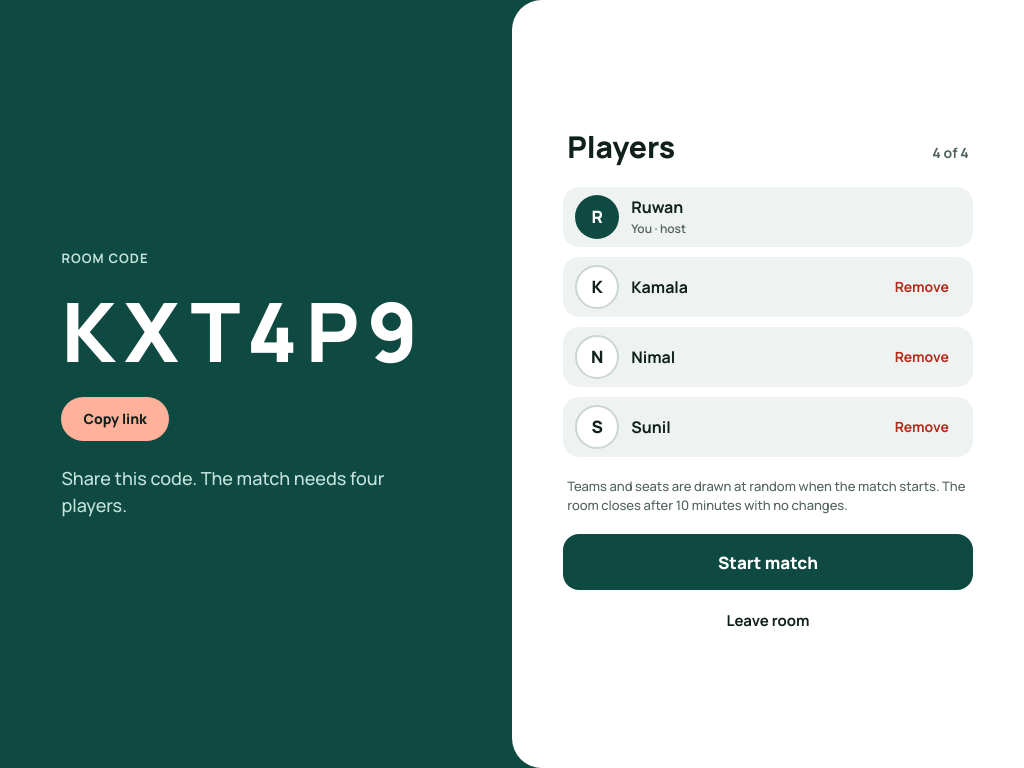
LobbyScreen › for the host › shows the server’s reason when an action is refused
What coordinates should you click on to do the following:
click the button "Start match"
I would click on:
 (768, 562)
Its box is [563,534,973,590].
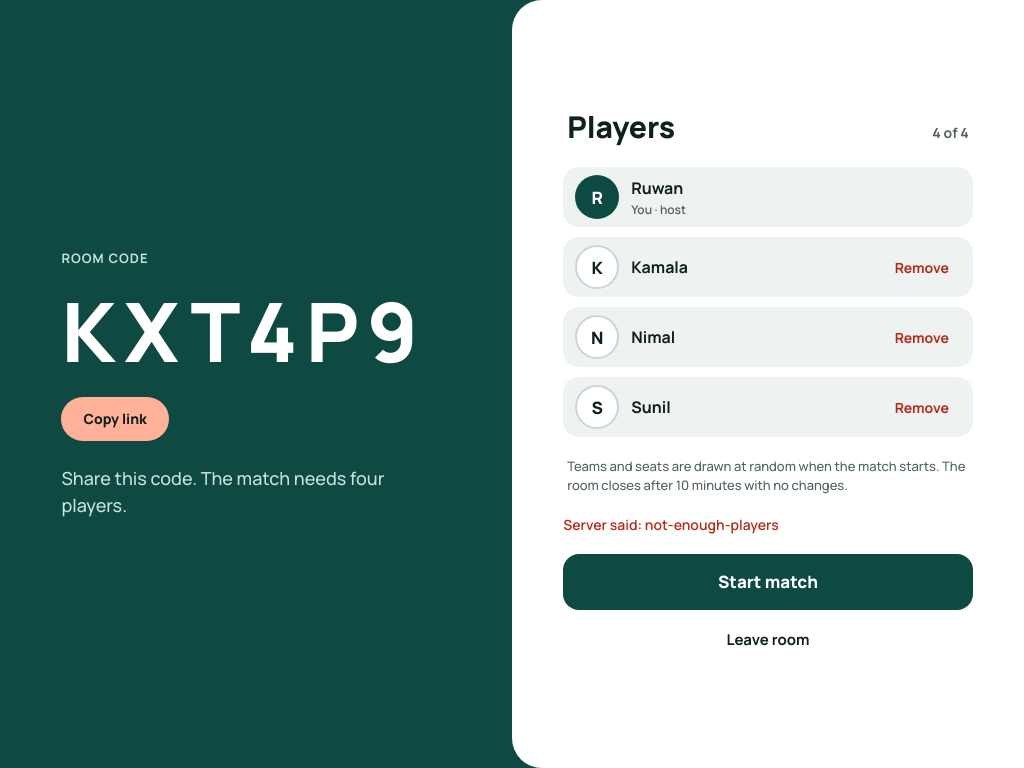
expect the message shows "not-enough-players": met, box [563,515,779,534]
